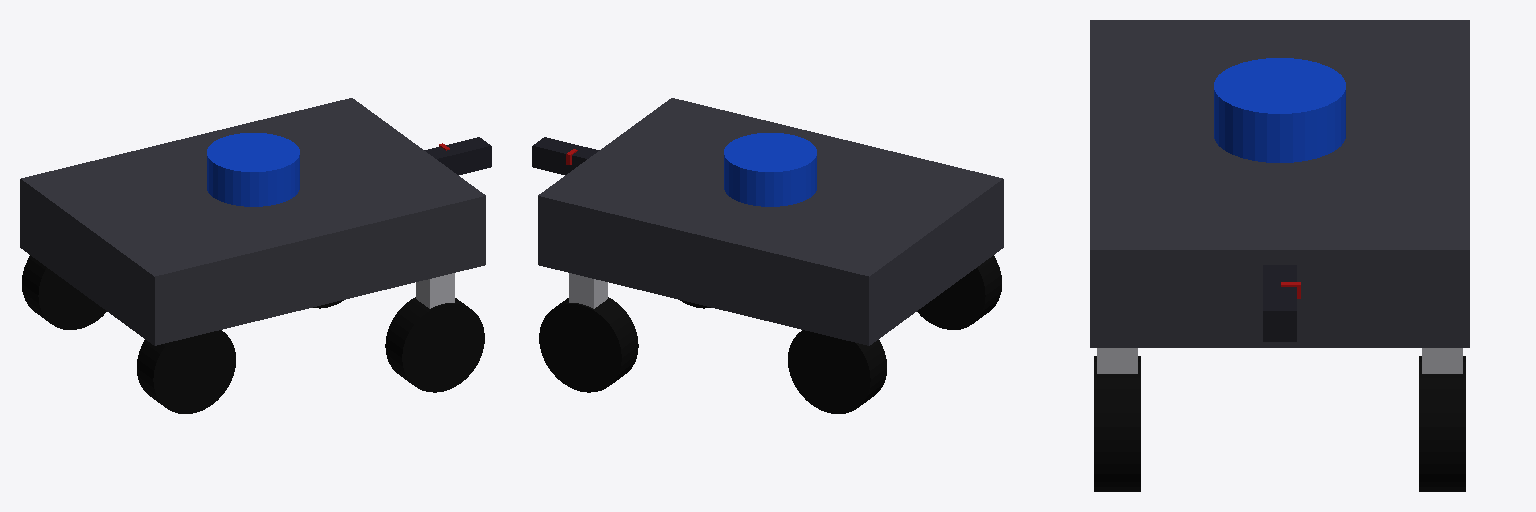
URDF robot description (genbot):
<?xml version="1.0" ?>
<!-- =================================================================================== -->
<!-- |    This document was autogenerated by xacro from software/genbot_description/urdf/genbot.urdf.xacro | -->
<!-- |    EDITING THIS FILE BY HAND IS NOT RECOMMENDED                                 | -->
<!-- =================================================================================== -->
<robot name="genbot">
  <!--
   ============================================================
    GenBot Ackermann — 阿克曼转向通用机器人开发平台
   ============================================================
   底盘: 400mm x 280mm
   转向: 前轮阿克曼转向（左右转角不同）
   驱动: 后轮JGA25-371直流有刷编码电机
   传感器: RPLIDAR A1 (顶) + Realsense D435 (前) + MPU6050 (内)
   仿真: Gazebo Harmonic (gz-sim 8)
   ============================================================
  -->
  <material name="ChassisGray">
    <color rgba="0.25 0.25 0.28 1.0"/>
  </material>
  <material name="WheelBlack">
    <color rgba="0.08 0.08 0.08 1.0"/>
  </material>
  <material name="UprightSilver">
    <color rgba="0.70 0.70 0.72 1.0"/>
  </material>
  <material name="LidarBlue">
    <color rgba="0.10 0.30 0.80 1.0"/>
  </material>
  <material name="CameraDark">
    <color rgba="0.15 0.15 0.18 1.0"/>
  </material>
  <material name="LensRed">
    <color rgba="0.70 0.10 0.10 1.0"/>
  </material>
  <!-- ========== base_footprint ========== -->
  <link name="base_footprint"/>
  <!-- ========== 底盘 ========== -->
  <link name="base_link">
    <visual>
      <origin rpy="0 0 0" xyz="0 0 0.04"/>
      <geometry>
        <box size="0.4 0.28 0.08"/>
      </geometry>
      <material name="ChassisGray"/>
    </visual>
    <collision>
      <origin rpy="0 0 0" xyz="0 0 0.04"/>
      <geometry>
        <box size="0.4 0.28 0.08"/>
      </geometry>
    </collision>
    <inertial>
      <mass value="4.0"/>
      <inertia ixx="0.02826666666666667" ixy="0" ixz="0" iyy="0.05546666666666667" iyz="0" izz="0.07946666666666669"/>
    </inertial>
  </link>
  <joint name="base_footprint_joint" type="fixed">
    <parent link="base_footprint"/>
    <child link="base_link"/>
    <origin rpy="0 0 0" xyz="0 0 0.09"/>
  </joint>
  <!-- ================================================================ -->
  <!--  前轮 — 左（转向节 + 转向关节 + 轮子 + 滚动关节）                -->
  <!-- ================================================================ -->
  <link name="front_left_steering_link">
    <visual>
      <origin rpy="0 0 0" xyz="0 0 0"/>
      <geometry>
        <box size="0.030 0.030 0.080"/>
      </geometry>
      <material name="UprightSilver"/>
    </visual>
    <collision>
      <origin rpy="0 0 0" xyz="0 0 0"/>
      <geometry>
        <box size="0.030 0.030 0.080"/>
      </geometry>
    </collision>
    <inertial>
      <mass value="0.15"/>
      <inertia ixx="9.125e-05" ixy="0" ixz="0" iyy="9.125e-05" iyz="0" izz="2.2499999999999998e-05"/>
    </inertial>
  </link>
  <joint name="front_left_steering_joint" type="revolute">
    <parent link="base_link"/>
    <child link="front_left_steering_link"/>
    <origin rpy="0 0 0" xyz="0.15 0.12 -0.04"/>
    <axis xyz="0 0 1"/>
    <limit effort="10.0" lower="-0.6" upper="0.6" velocity="3.0"/>
    <dynamics damping="0.05" friction="0.01"/>
  </joint>
  <link name="front_left_wheel">
    <visual>
      <origin rpy="1.5707963267948966 0 0" xyz="0 0 0"/>
      <geometry>
        <cylinder length="0.035" radius="0.05"/>
      </geometry>
      <material name="WheelBlack"/>
    </visual>
    <collision>
      <origin rpy="1.5707963267948966 0 0" xyz="0 0 0"/>
      <geometry>
        <cylinder length="0.035" radius="0.05"/>
      </geometry>
    </collision>
    <inertial>
      <mass value="0.3"/>
      <inertia ixx="0.00021812500000000003" ixy="0" ixz="0" iyy="0.00021812500000000003" iyz="0" izz="0.000375"/>
    </inertial>
  </link>
  <joint name="front_left_wheel_joint" type="continuous">
    <parent link="front_left_steering_link"/>
    <child link="front_left_wheel"/>
    <origin rpy="0 0 0" xyz="0 0 -0.045"/>
    <axis xyz="0 1 0"/>
    <limit effort="0.5" velocity="10.0"/>
    <dynamics damping="0.01" friction="0.01"/>
  </joint>
  <!-- ================================================================ -->
  <!--  前轮 — 右                                                      -->
  <!-- ================================================================ -->
  <link name="front_right_steering_link">
    <visual>
      <origin rpy="0 0 0" xyz="0 0 0"/>
      <geometry>
        <box size="0.030 0.030 0.080"/>
      </geometry>
      <material name="UprightSilver"/>
    </visual>
    <collision>
      <origin rpy="0 0 0" xyz="0 0 0"/>
      <geometry>
        <box size="0.030 0.030 0.080"/>
      </geometry>
    </collision>
    <inertial>
      <mass value="0.15"/>
      <inertia ixx="9.125e-05" ixy="0" ixz="0" iyy="9.125e-05" iyz="0" izz="2.2499999999999998e-05"/>
    </inertial>
  </link>
  <joint name="front_right_steering_joint" type="revolute">
    <parent link="base_link"/>
    <child link="front_right_steering_link"/>
    <origin rpy="0 0 0" xyz="0.15 -0.12 -0.04"/>
    <axis xyz="0 0 1"/>
    <limit effort="10.0" lower="-0.6" upper="0.6" velocity="3.0"/>
    <dynamics damping="0.05" friction="0.01"/>
  </joint>
  <link name="front_right_wheel">
    <visual>
      <origin rpy="1.5707963267948966 0 0" xyz="0 0 0"/>
      <geometry>
        <cylinder length="0.035" radius="0.05"/>
      </geometry>
      <material name="WheelBlack"/>
    </visual>
    <collision>
      <origin rpy="1.5707963267948966 0 0" xyz="0 0 0"/>
      <geometry>
        <cylinder length="0.035" radius="0.05"/>
      </geometry>
    </collision>
    <inertial>
      <mass value="0.3"/>
      <inertia ixx="0.00021812500000000003" ixy="0" ixz="0" iyy="0.00021812500000000003" iyz="0" izz="0.000375"/>
    </inertial>
  </link>
  <joint name="front_right_wheel_joint" type="continuous">
    <parent link="front_right_steering_link"/>
    <child link="front_right_wheel"/>
    <origin rpy="0 0 0" xyz="0 0 -0.045"/>
    <axis xyz="0 1 0"/>
    <limit effort="0.5" velocity="10.0"/>
    <dynamics damping="0.01" friction="0.01"/>
  </joint>
  <!-- ================================================================ -->
  <!--  后轮 — 左（仅驱动，不转向）                                    -->
  <!-- ================================================================ -->
  <link name="rear_left_wheel">
    <visual>
      <origin rpy="1.5707963267948966 0 0" xyz="0 0 0"/>
      <geometry>
        <cylinder length="0.035" radius="0.05"/>
      </geometry>
      <material name="WheelBlack"/>
    </visual>
    <collision>
      <origin rpy="1.5707963267948966 0 0" xyz="0 0 0"/>
      <geometry>
        <cylinder length="0.035" radius="0.05"/>
      </geometry>
    </collision>
    <inertial>
      <mass value="0.3"/>
      <inertia ixx="0.00021812500000000003" ixy="0" ixz="0" iyy="0.00021812500000000003" iyz="0" izz="0.000375"/>
    </inertial>
  </link>
  <joint name="rear_left_wheel_joint" type="continuous">
    <parent link="base_link"/>
    <child link="rear_left_wheel"/>
    <origin rpy="0 0 0" xyz="-0.15 0.12 -0.04"/>
    <axis xyz="0 1 0"/>
    <limit effort="0.5" velocity="10.0"/>
    <dynamics damping="0.01" friction="0.01"/>
  </joint>
  <!-- ================================================================ -->
  <!--  后轮 — 右                                                      -->
  <!-- ================================================================ -->
  <link name="rear_right_wheel">
    <visual>
      <origin rpy="1.5707963267948966 0 0" xyz="0 0 0"/>
      <geometry>
        <cylinder length="0.035" radius="0.05"/>
      </geometry>
      <material name="WheelBlack"/>
    </visual>
    <collision>
      <origin rpy="1.5707963267948966 0 0" xyz="0 0 0"/>
      <geometry>
        <cylinder length="0.035" radius="0.05"/>
      </geometry>
    </collision>
    <inertial>
      <mass value="0.3"/>
      <inertia ixx="0.00021812500000000003" ixy="0" ixz="0" iyy="0.00021812500000000003" iyz="0" izz="0.000375"/>
    </inertial>
  </link>
  <joint name="rear_right_wheel_joint" type="continuous">
    <parent link="base_link"/>
    <child link="rear_right_wheel"/>
    <origin rpy="0 0 0" xyz="-0.15 -0.12 -0.04"/>
    <axis xyz="0 1 0"/>
    <limit effort="0.5" velocity="10.0"/>
    <dynamics damping="0.01" friction="0.01"/>
  </joint>
  <!-- ========== RPLIDAR A1 ========== -->
  <link name="lidar_link">
    <visual>
      <origin rpy="0 0 0" xyz="0 0 0.025"/>
      <geometry>
        <cylinder length="0.050" radius="0.049"/>
      </geometry>
      <material name="LidarBlue"/>
    </visual>
    <collision>
      <origin rpy="0 0 0" xyz="0 0 0.025"/>
      <geometry>
        <cylinder length="0.050" radius="0.049"/>
      </geometry>
    </collision>
    <inertial>
      <mass value="0.12"/>
      <inertia ixx="9.703e-05" ixy="0" ixz="0" iyy="9.703e-05" iyz="0" izz="0.00014406"/>
    </inertial>
  </link>
  <joint name="lidar_joint" type="fixed">
    <parent link="base_link"/>
    <child link="lidar_link"/>
    <origin rpy="0 0 0" xyz="0 0 0.07"/>
  </joint>
  <!-- ========== Realsense D435 ========== -->
  <link name="camera_link">
    <visual>
      <origin rpy="0 0 0" xyz="0.045 0 0"/>
      <geometry>
        <box size="0.090 0.025 0.025"/>
      </geometry>
      <material name="CameraDark"/>
    </visual>
    <visual>
      <origin rpy="0 0 0" xyz="0.045 0.008 0.008"/>
      <geometry>
        <box size="0.005 0.015 0.012"/>
      </geometry>
      <material name="LensRed"/>
    </visual>
    <collision>
      <origin rpy="0 0 0" xyz="0.045 0 0"/>
      <geometry>
        <box size="0.090 0.025 0.025"/>
      </geometry>
    </collision>
    <inertial>
      <mass value="0.15"/>
      <inertia ixx="1.5625e-05" ixy="0" ixz="0" iyy="0.00010906249999999999" iyz="0" izz="0.00010906249999999999"/>
    </inertial>
  </link>
  <joint name="camera_joint" type="fixed">
    <parent link="base_link"/>
    <child link="camera_link"/>
    <origin rpy="0 0 0" xyz="0.19 0 0.055"/>
  </joint>
  <!-- ========== MPU6050 IMU ========== -->
  <link name="imu_link">
    <visual>
      <origin rpy="0 0 0" xyz="0 0 0"/>
      <geometry>
        <box size="0.020 0.015 0.005"/>
      </geometry>
      <material name="LensRed"/>
    </visual>
    <collision>
      <origin rpy="0 0 0" xyz="0 0 0"/>
      <geometry>
        <box size="0.020 0.015 0.005"/>
      </geometry>
    </collision>
    <inertial>
      <mass value="0.005"/>
      <inertia ixx="1.0416666666666667e-07" ixy="0" ixz="0" iyy="1.7708333333333334e-07" iyz="0" izz="2.604166666666667e-07"/>
    </inertial>
  </link>
  <joint name="imu_joint" type="fixed">
    <parent link="base_link"/>
    <child link="imu_link"/>
    <origin rpy="0 0 0" xyz="0 0 0"/>
  </joint>
  <!--
   ============================================================
    GenBot Ackermann — Gazebo Harmonic (gz-sim 8) 插件配置
   ============================================================
   后轮: DiffDrive（速度控制）
   前轮: JointPositionController（位置控制，阿克曼转角）
   ============================================================
  -->
  <!-- 底盘物理 -->
  <gazebo reference="base_link">
    <material>Gazebo/Grey</material>
    <gravity>true</gravity>
    <selfCollide>false</selfCollide>
    <kinematic>false</kinematic>
    <mu1>0.5</mu1>
    <mu2>0.5</mu2>
    <friction1>0.5</friction1>
    <friction2>0.5</friction2>
  </gazebo>
  <!-- 后轮驱动 — 高摩擦 -->
  <gazebo reference="rear_left_wheel">
    <mu1>1.0</mu1>
    <mu2>1.0</mu2>
    <friction1>1.0</friction1>
    <friction2>1.0</friction2>
    <material>Gazebo/Black</material>
  </gazebo>
  <gazebo reference="rear_right_wheel">
    <mu1>1.0</mu1>
    <mu2>1.0</mu2>
    <friction1>1.0</friction1>
    <friction2>1.0</friction2>
    <material>Gazebo/Black</material>
  </gazebo>
  <!-- 前轮转向节 — 中等摩擦 -->
  <gazebo reference="front_left_steering_link">
    <mu1>0.3</mu1>
    <mu2>0.3</mu2>
  </gazebo>
  <gazebo reference="front_right_steering_link">
    <mu1>0.3</mu1>
    <mu2>0.3</mu2>
  </gazebo>
  <!-- 前轮 — 低摩擦（转向轮需要低侧向摩擦） -->
  <gazebo reference="front_left_wheel">
    <mu1>0.3</mu1>
    <mu2>0.3</mu2>
    <material>Gazebo/Black</material>
  </gazebo>
  <gazebo reference="front_right_wheel">
    <mu1>0.3</mu1>
    <mu2>0.3</mu2>
    <material>Gazebo/Black</material>
  </gazebo>
  <!-- ============================================================ -->
  <!--  后轮差速驱动（DiffDrive）                                    -->
  <!--  订阅 /cmd_vel 中的 linear.x 速度                            -->
  <!-- ============================================================ -->
  <gazebo>
    <plugin filename="libgz-sim-diff-drive-system.so" name="gz::sim::systems::DiffDrive">
      <left_joint>rear_left_wheel_joint</left_joint>
      <right_joint>rear_right_wheel_joint</right_joint>
      <wheel_separation>0.24</wheel_separation>
      <wheel_radius>0.05</wheel_radius>
      <odom_publisher_frequency>50</odom_publisher_frequency>
      <topic>/cmd_vel</topic>
      <odom_topic>/odom</odom_topic>
      <frame_id>odom</frame_id>
      <child_frame_id>base_footprint</child_frame_id>
      <min_velocity>-0.5</min_velocity>
      <max_velocity>0.5</max_velocity>
      <min_acceleration>-0.3</min_acceleration>
      <max_acceleration>0.3</max_acceleration>
    </plugin>
  </gazebo>
  <!-- ============================================================ -->
  <!--  前轮转向控制（JointPositionController）                     -->
  <!--  通过 /cmd_steer_left 和 /cmd_steer_right 控制转向角度       -->
  <!--  阿克曼转角由外部节点计算后发布                               -->
  <!-- ============================================================ -->
  <gazebo>
    <plugin filename="libgz-sim-joint-position-controller-system.so" name="gz::sim::systems::JointPositionController">
      <joint_name>front_left_steering_joint</joint_name>
      <topic>/cmd_steer_left</topic>
      <use_cmd_composition>false</use_cmd_composition>
      <publish_cmd>true</publish_cmd>
      <publish_state>true</publish_state>
      <publish_pose>true</publish_pose>
      <publish_wrench>false</publish_wrench>
    </plugin>
  </gazebo>
  <gazebo>
    <plugin filename="libgz-sim-joint-position-controller-system.so" name="gz::sim::systems::JointPositionController">
      <joint_name>front_right_steering_joint</joint_name>
      <topic>/cmd_steer_right</topic>
      <use_cmd_composition>false</use_cmd_composition>
      <publish_cmd>true</publish_cmd>
      <publish_state>true</publish_state>
      <publish_pose>true</publish_pose>
      <publish_wrench>false</publish_wrench>
    </plugin>
  </gazebo>
  <!-- ============================================================ -->
  <!--  LiDAR                                                       -->
  <!-- ============================================================ -->
  <gazebo reference="lidar_link">
    <sensor name="lidar" type="gpu_lidar">
      <topic>/scan</topic>
      <update_rate>10</update_rate>
      <lidar>
        <scan>
          <horizontal>
            <samples>360</samples>
            <resolution>1.0</resolution>
            <min_angle>0.0</min_angle>
            <max_angle>6.283185</max_angle>
          </horizontal>
        </scan>
        <range>
          <min>0.15</min>
          <max>12.0</max>
          <resolution>0.015</resolution>
        </range>
      </lidar>
      <noise>
        <type>gaussian</type>
        <mean>0.0</mean>
        <stddev>0.01</stddev>
      </noise>
      <always_on>1</always_on>
      <visualize>true</visualize>
    </sensor>
  </gazebo>
  <!-- ============================================================ -->
  <!--  RGB 相机 + 深度相机                                         -->
  <!-- ============================================================ -->
  <gazebo reference="camera_link">
    <sensor name="rgb_camera" type="camera">
      <topic>/camera/color/image_raw</topic>
      <update_rate>30</update_rate>
      <camera>
        <horizontal_fov>1.204</horizontal_fov>
        <image>
          <width>1280</width>
          <height>720</height>
          <format>R8G8B8</format>
        </image>
        <clip>
          <near>0.1</near>
          <far>30.0</far>
        </clip>
      </camera>
      <always_on>1</always_on>
      <visualize>true</visualize>
    </sensor>
    <sensor name="depth_camera" type="depth_camera">
      <topic>/camera/depth/image_raw</topic>
      <update_rate>30</update_rate>
      <camera>
        <horizontal_fov>1.396</horizontal_fov>
        <image>
          <width>640</width>
          <height>480</height>
          <format>L16</format>
        </image>
        <clip>
          <near>0.1</near>
          <far>10.0</far>
        </clip>
      </camera>
      <always_on>1</always_on>
      <visualize>false</visualize>
    </sensor>
  </gazebo>
  <!-- ============================================================ -->
  <!--  IMU                                                        -->
  <!-- ============================================================ -->
  <gazebo reference="imu_link">
    <sensor name="imu" type="imu">
      <topic>/imu/data_raw</topic>
      <update_rate>100</update_rate>
      <always_on>1</always_on>
      <visualize>false</visualize>
    </sensor>
  </gazebo>
</robot>

--- What the picture shows (computed from the rendered views, not written in the file) ---
3 views of the same robot in one strip: view 1: azimuth 30°, elevation 25°; view 2: azimuth 150°, elevation 25°; view 3: azimuth 270°, elevation 25° (orthographic).
Model genbot with 11 links and 10 joints (2 revolute, 4 continuous, 4 fixed), rooted at base_footprint, posed every joint at zero.
Links seen in each view (by area): view 1: base_link, front_right_wheel, rear_right_wheel, lidar_link, rear_left_wheel, camera_link, front_right_steering_link; view 2: base_link, front_left_wheel, rear_left_wheel, lidar_link, rear_right_wheel, camera_link, front_left_steering_link; view 3: base_link, lidar_link, front_left_wheel, front_right_wheel, camera_link, front_left_steering_link, front_right_steering_link.
Boxes of the visible links, x1,y1,x2,y2 form: base_link: (20, 98, 485, 345); front_right_wheel: (385, 297, 484, 392); rear_right_wheel: (137, 330, 235, 413); lidar_link: (207, 133, 299, 206); rear_left_wheel: (22, 255, 106, 329); camera_link: (424, 137, 491, 174); front_right_steering_link: (416, 273, 454, 308); base_link: (538, 98, 1003, 345); front_left_wheel: (539, 297, 638, 392); rear_left_wheel: (788, 330, 886, 413); lidar_link: (724, 133, 816, 206); rear_right_wheel: (917, 255, 1001, 329); camera_link: (532, 137, 599, 174); front_left_steering_link: (569, 273, 607, 308); base_link: (1090, 20, 1469, 347); lidar_link: (1214, 58, 1345, 162); front_left_wheel: (1419, 356, 1465, 491); front_right_wheel: (1094, 356, 1140, 491); camera_link: (1263, 265, 1300, 341); front_left_steering_link: (1422, 348, 1462, 373); front_right_steering_link: (1097, 348, 1137, 373).
Bounding box of the posed robot: 0.48 × 0.28 × 0.255 m (x, y, z).
Geometry: primitives only (box / cylinder / sphere), no mesh files.
